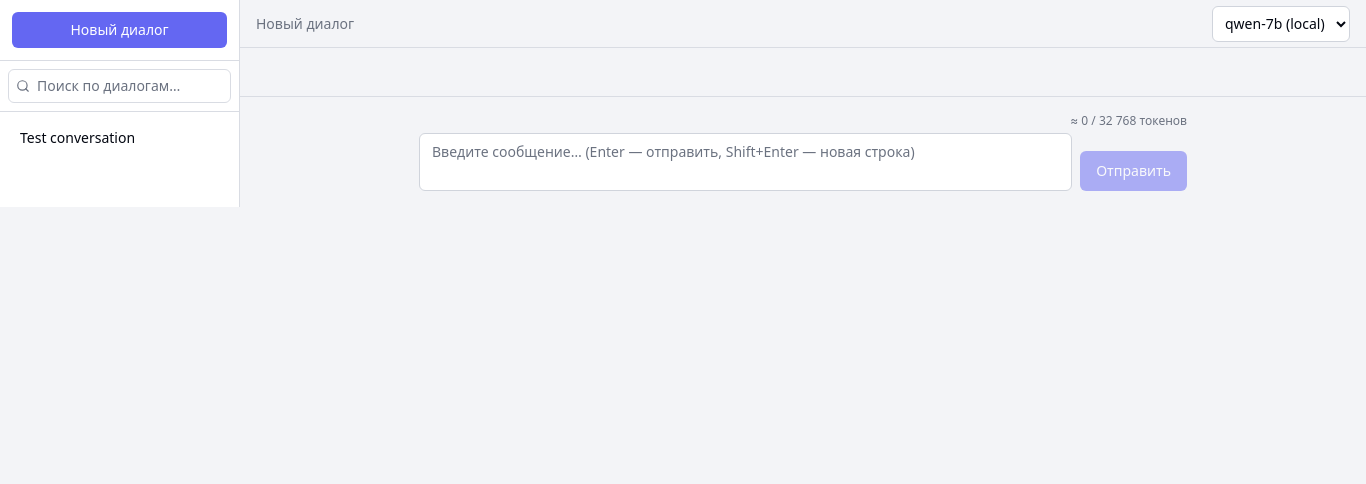
Test: T-442: мягкий сброс контекста › индикатор контекста обнуляется после сброса
Click the button "Test conversation" at (106, 138), box [8,120,205,156]
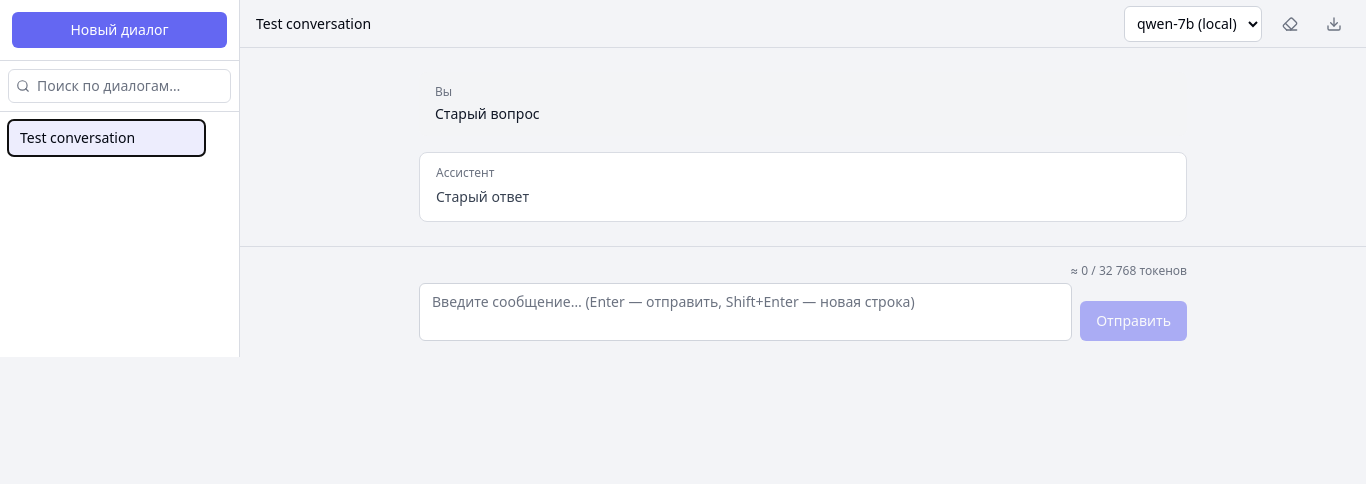
Expected: the text titled "Оценка занятости окна контекста" reads "≈ 0 / 32 768 токенов", [1070,262,1187,279]
Result: the text "Старый вопрос" is shown at [435,104,540,123]
Type "Вопрос подлиннее" into the text box with placeholder "Введите сообщение" at (746, 312), box [419,283,1072,341]
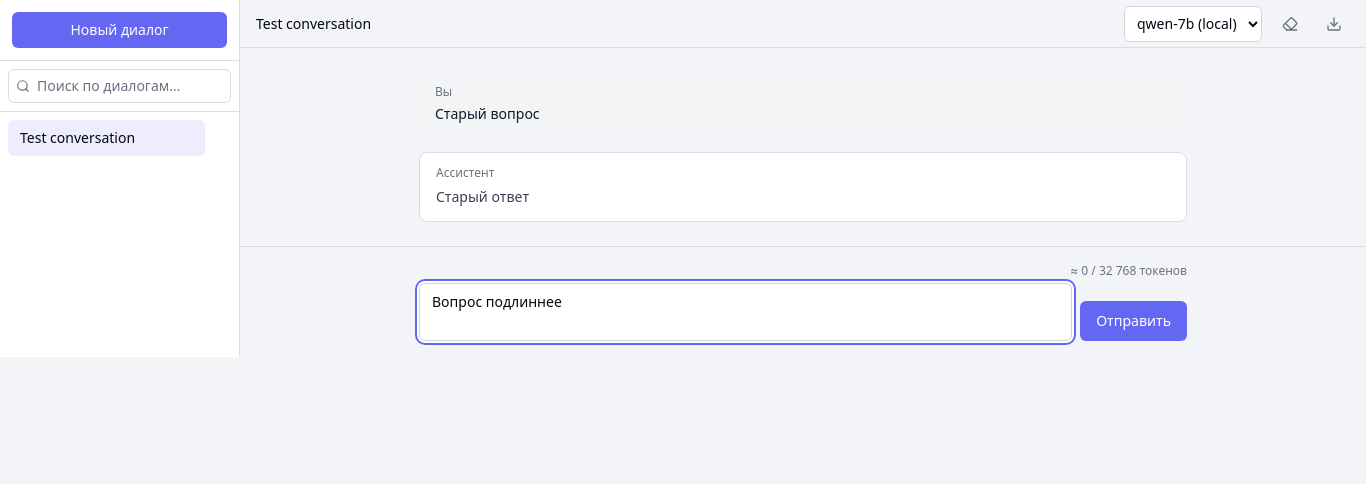
Click the button "Отправить" at (1134, 321), box [1080,301,1187,341]
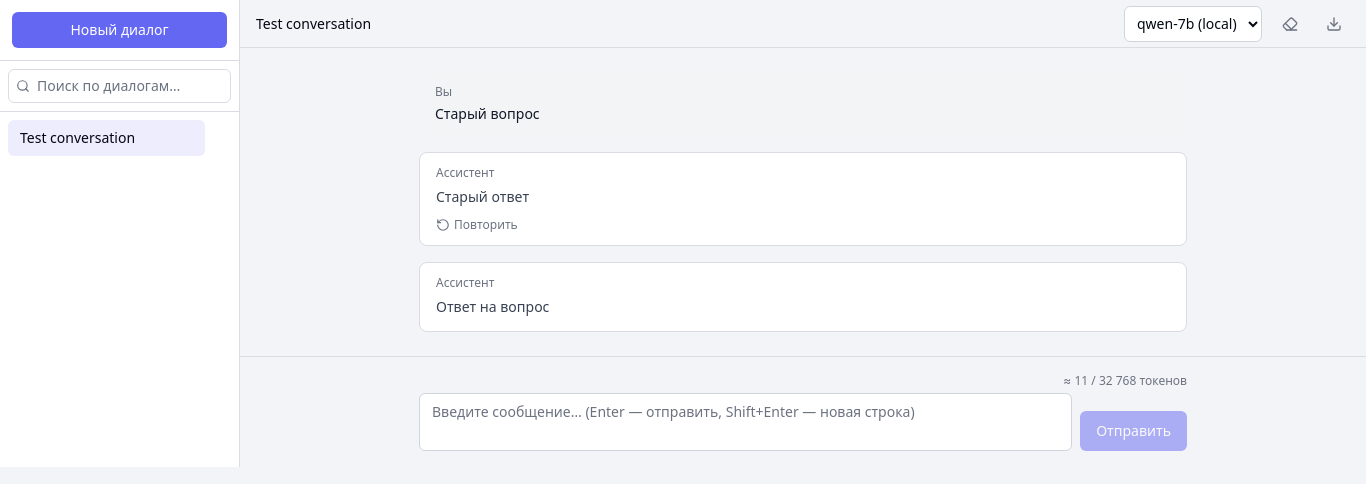
Expected: the text titled "Оценка занятости окна контекста" reads "≈ 11 / 32 768 токенов", [1099,372,1136,389]
Click the button titled "Сбросить контекст" at (1290, 24), box [1274,12,1306,36]
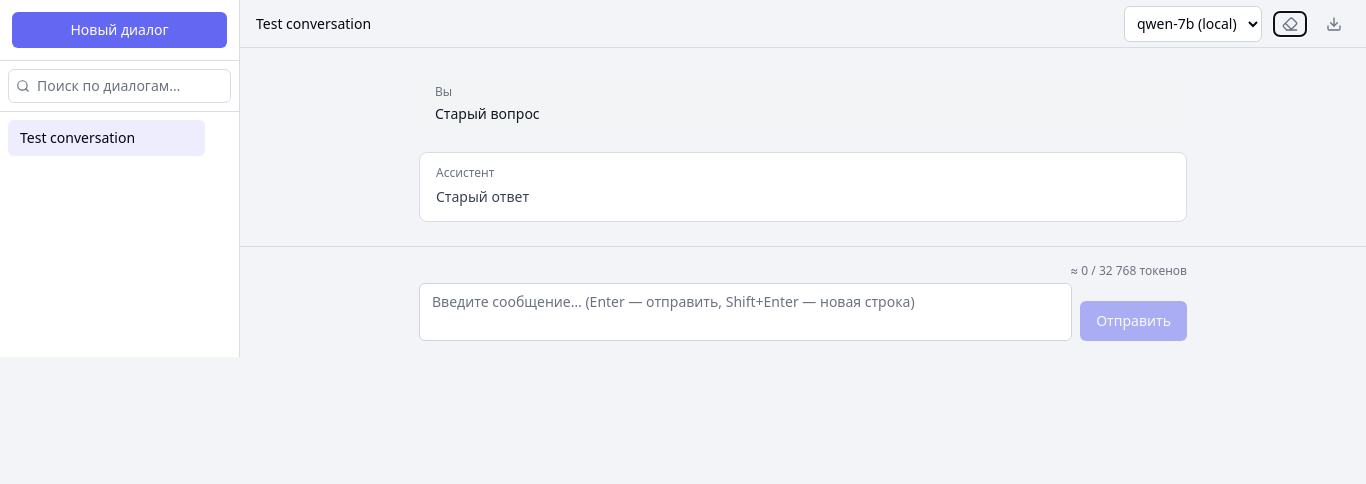
Result: the text titled "Оценка занятости окна контекста" reads "≈ 0 / 32 768 токенов" at [1070,262,1187,279]
